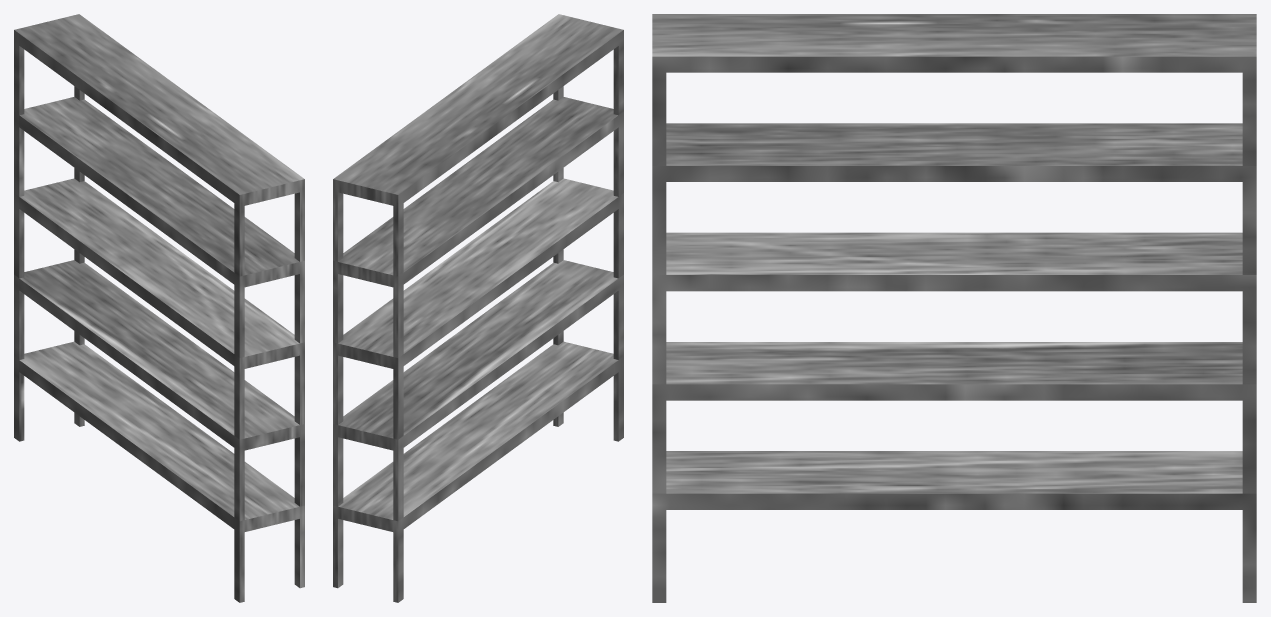
The model's file is Shelf.fbx.
3 views of the same model, side by side, from view 1: azimuth 30°, elevation 25°; view 2: azimuth 150°, elevation 25°; view 3: azimuth 270°, elevation 25° (orthographic). The views are drawn at different scales.
Visible parts, largest first — view 1: Plane; view 2: Plane; view 3: Plane.
Part boxes in pixels (x1=…): Plane: x1=14, y1=14, x2=304, y2=602; Plane: x1=333, y1=14, x2=623, y2=602; Plane: x1=652, y1=14, x2=1256, y2=602.
Size of the model in its own units: 0.5 by 2.99 by 3.
Materials: 1 (1 with a texture image).
